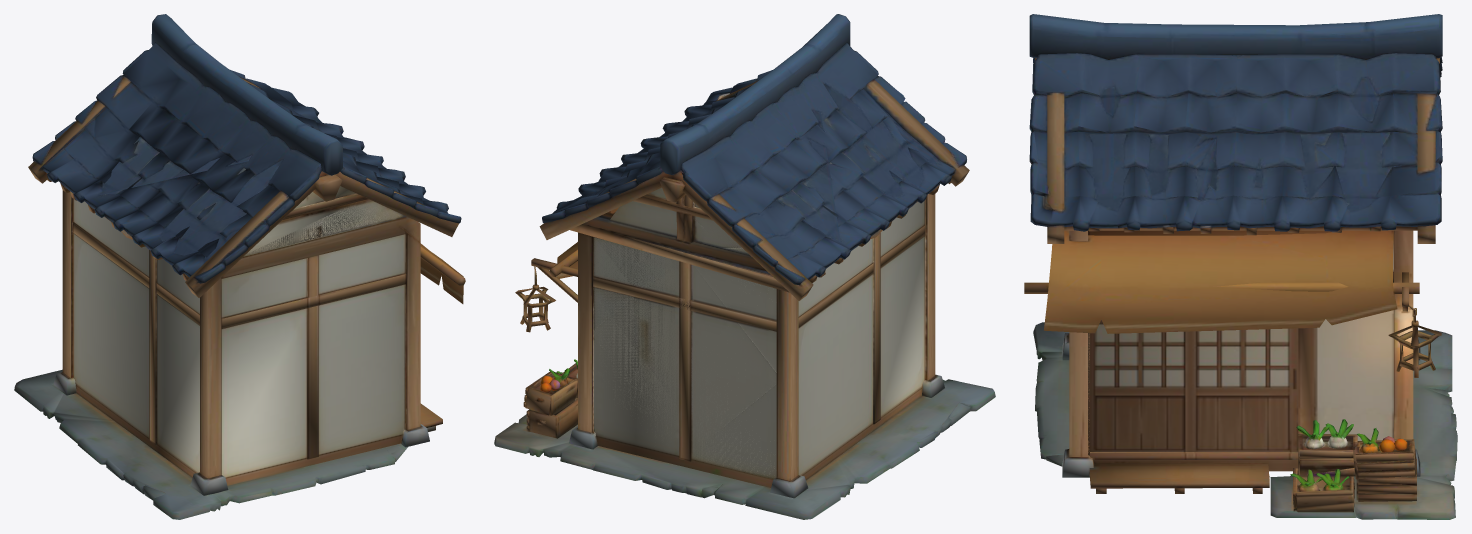
Rendered from village_shop.glb.
The picture shows the model from 3 angles, left to right: view 1: azimuth 30°, elevation 25°; view 2: azimuth 150°, elevation 25°; view 3: azimuth 270°, elevation 25°; orthographic projection. The views are drawn at different scales.
Parts seen in each view (by area): view 1: tripo_node_346798b7-c9d3-45f2-aa98-7565e791406e; view 2: tripo_node_346798b7-c9d3-45f2-aa98-7565e791406e; view 3: tripo_node_346798b7-c9d3-45f2-aa98-7565e791406e.
Boxes of the visible parts, x1=… form: tripo_node_346798b7-c9d3-45f2-aa98-7565e791406e: x1=14, y1=14, x2=465, y2=519; tripo_node_346798b7-c9d3-45f2-aa98-7565e791406e: x1=494, y1=14, x2=995, y2=519; tripo_node_346798b7-c9d3-45f2-aa98-7565e791406e: x1=1024, y1=14, x2=1457, y2=519.
Bounding box in the file's own units: 0.9941 × 0.998 × 0.9551.
Materials: 1 (1 with a texture image).
